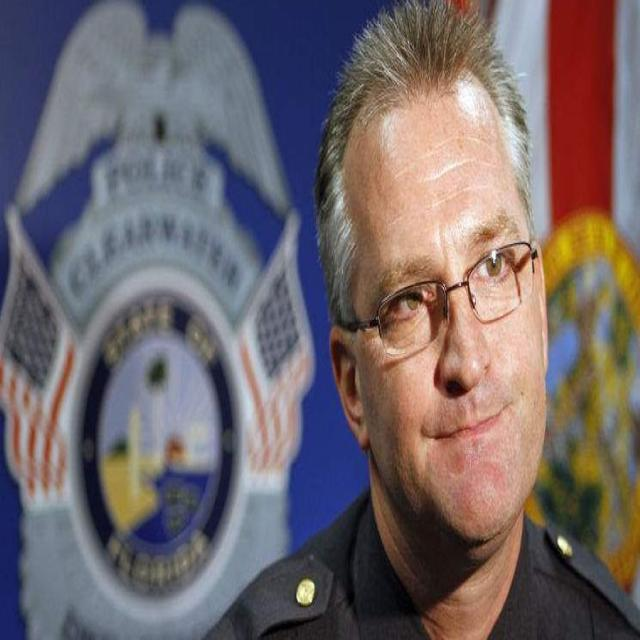police: (198, 0, 640, 640)
